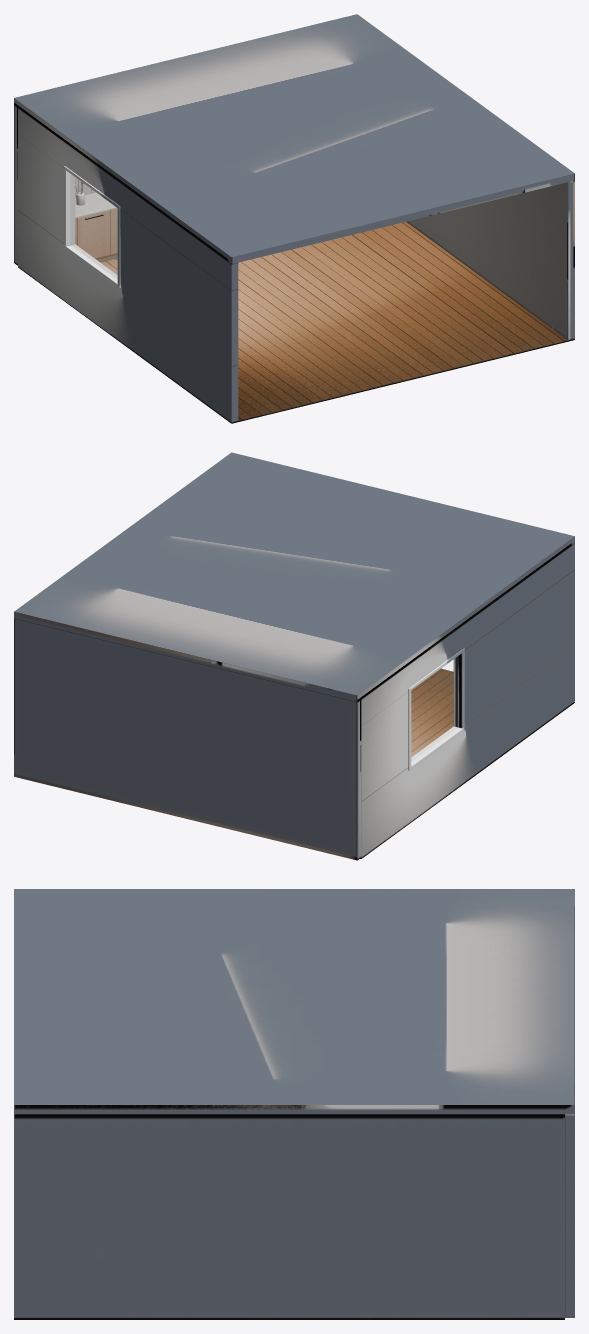
Rendered from kitchen.glb.
3 renders of one model, top to bottom at view 1: azimuth 30°, elevation 25°; view 2: azimuth 150°, elevation 25°; view 3: azimuth 270°, elevation 25°, orthographic. The views are drawn at different scales.
Visible parts, largest first — view 1: object 7, object 9, object 1, object 17; view 2: object 7, object 9, object 17, object 1; view 3: object 7, object 9.
Part boxes in pixels (x1,y1,x2,y2): object 7: [14, 14, 574, 422]; object 9: [18, 221, 574, 423]; object 1: [64, 166, 120, 288]; object 17: [71, 175, 116, 277]; object 7: [14, 452, 574, 860]; object 9: [360, 668, 574, 858]; object 17: [412, 656, 458, 759]; object 1: [408, 648, 464, 770]; object 7: [14, 889, 574, 1317]; object 9: [14, 1318, 564, 1319].
Bounding box in the file's own units: 6.16 × 2.85 × 6.74.
8 materials, 7 textured.
